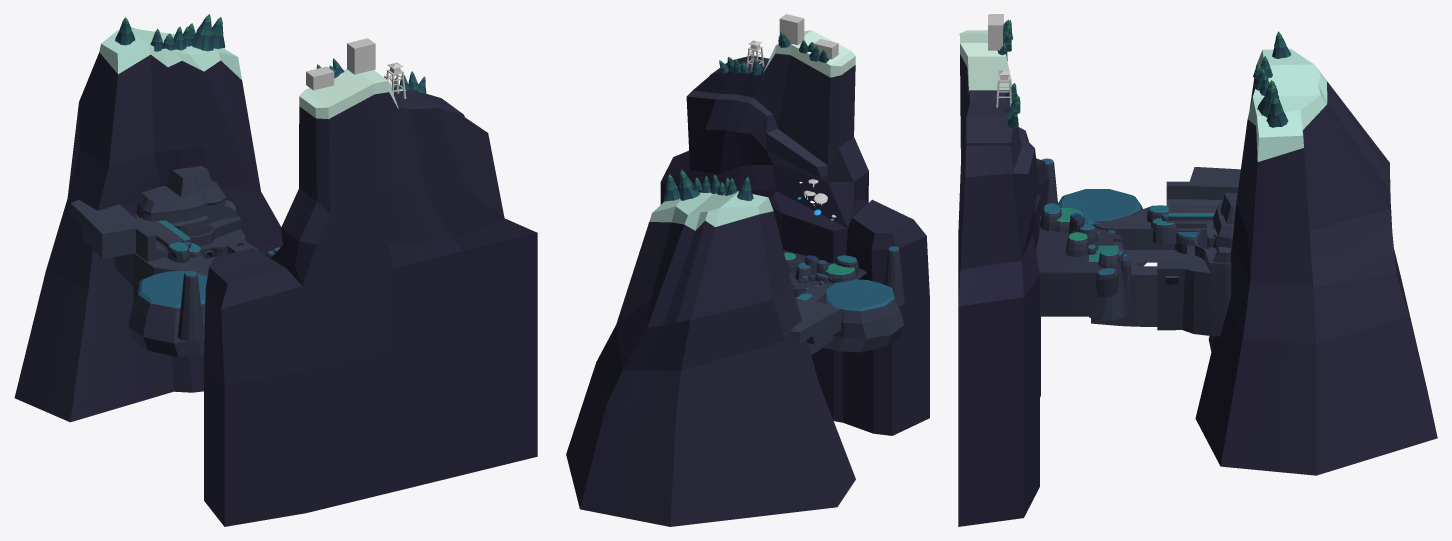
File: EXT_MountainRange_Terrain.fbx
3 renders of one model, left to right at view 1: azimuth 30°, elevation 25°; view 2: azimuth 150°, elevation 25°; view 3: azimuth 270°, elevation 25°, orthographic. The views are drawn at different scales.
Parts seen in each view (by area): view 1: Tallest Mountain, BTMountain.001, MineFoundation, MORPFoundation, MORPTowerFoundation, Trees, MountainTerrain.007; view 2: BTMountain.001, Tallest Mountain, MORPTowerFoundation, MORPFoundation, Trees, Trees.001, MountainTerrain.007, MountainTerrain.009, Hill06, FKFoundation; view 3: BTMountain.001, Tallest Mountain, MineFoundation, FKFoundation, MORPFoundation, DirtBottomFoundation, MORPTowerFoundation, Trees, MountainTerrain.005, MountainTerrain.003, MountainTerrain.009, Trees.001 (+3 smaller).
Part boxes in pixels (x1=…): Tallest Mountain: x1=204, y1=38, x2=537, y2=526; BTMountain.001: x1=14, y1=27, x2=282, y2=422; MineFoundation: x1=133, y1=166, x2=259, y2=297; MORPFoundation: x1=70, y1=199, x2=211, y2=288; MORPTowerFoundation: x1=128, y1=270, x2=207, y2=357; Trees: x1=115, y1=14, x2=225, y2=51; MountainTerrain.007: x1=177, y1=270, x2=203, y2=341; BTMountain.001: x1=566, y1=191, x2=855, y2=526; Tallest Mountain: x1=660, y1=14, x2=929, y2=435; MORPTowerFoundation: x1=823, y1=279, x2=903, y2=352; MORPFoundation: x1=790, y1=284, x2=840, y2=354; Trees: x1=663, y1=169, x2=753, y2=201; Trees.001: x1=719, y1=32, x2=829, y2=75; MountainTerrain.007: x1=884, y1=246, x2=904, y2=305; MountainTerrain.009: x1=824, y1=255, x2=858, y2=283; Hill06: x1=795, y1=255, x2=828, y2=283; FKFoundation: x1=783, y1=250, x2=866, y2=297; BTMountain.001: x1=1195, y1=48, x2=1437, y2=475; Tallest Mountain: x1=958, y1=14, x2=1049, y2=526; MineFoundation: x1=1157, y1=192, x2=1237, y2=336; FKFoundation: x1=1036, y1=216, x2=1123, y2=316; MORPFoundation: x1=1094, y1=167, x2=1240, y2=249; DirtBottomFoundation: x1=1091, y1=250, x2=1184, y2=326; MORPTowerFoundation: x1=1057, y1=189, x2=1146, y2=266; Trees: x1=1253, y1=31, x2=1291, y2=127; MountainTerrain.005: x1=1089, y1=249, x2=1127, y2=320; MountainTerrain.003: x1=1147, y1=205, x2=1177, y2=244; MountainTerrain.009: x1=1040, y1=203, x2=1084, y2=232; Trees.001: x1=997, y1=19, x2=1020, y2=128.
Bounding box in the file's own units: 278611 × 326711 × 328811.
